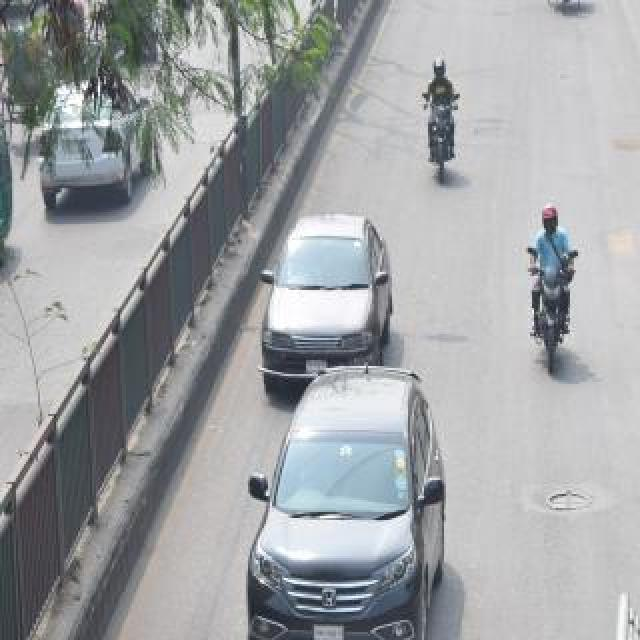car: (230, 366, 466, 640), (248, 200, 398, 414), (34, 52, 176, 230)
motorbike: (515, 248, 587, 380), (404, 94, 472, 204)
